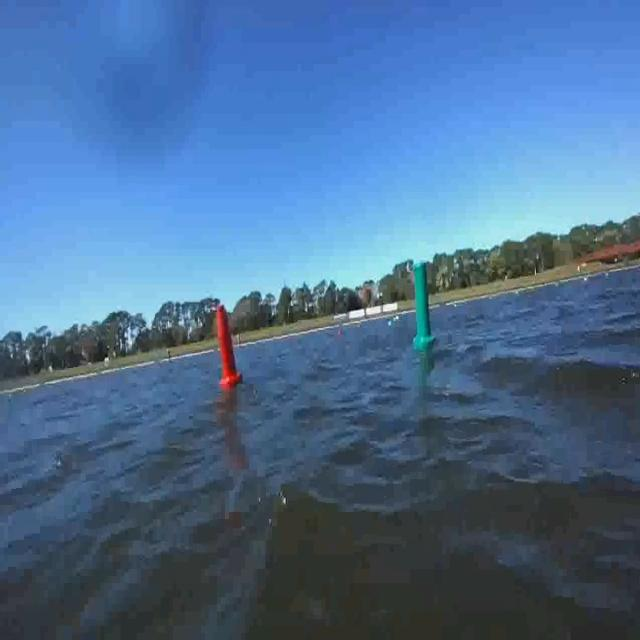green-column-buoy: (413, 259, 437, 349)
red-column-buoy: (215, 302, 242, 388)
